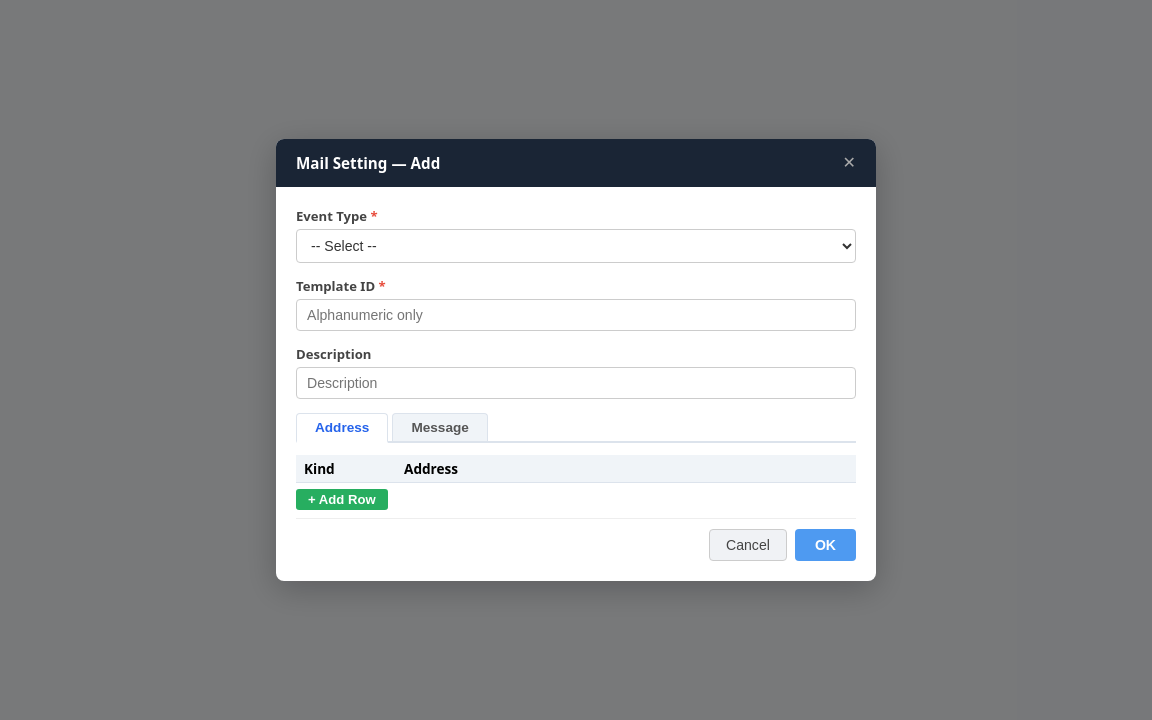
it: MailSettingModal › shows required error when event type is empty
Click the button "OK".
click(825, 545)  # box left=795, top=529, right=856, bottom=561
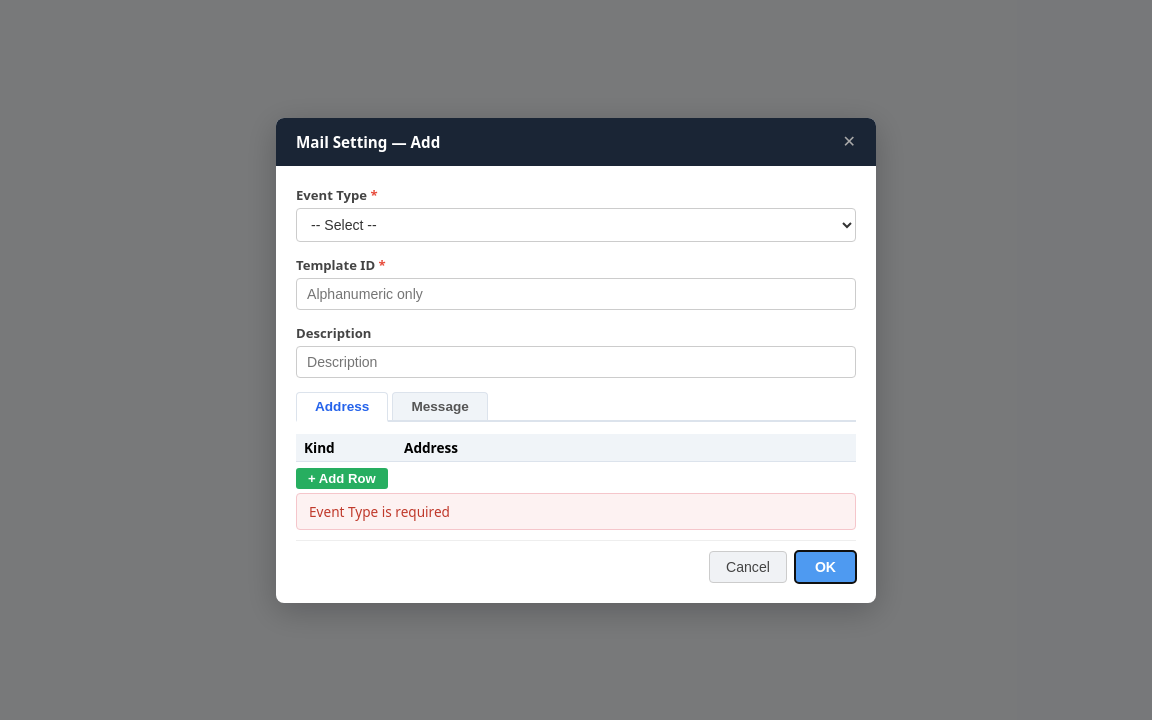
expect the text "Event Type is required" is shown: met, box left=296, top=492, right=856, bottom=530
